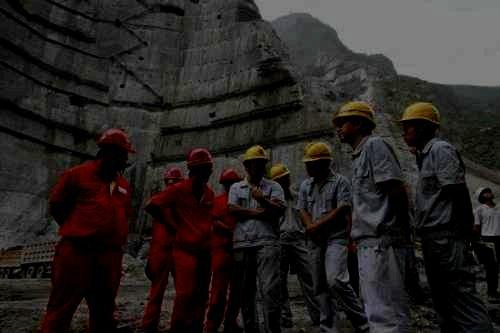helmet: (396, 102, 440, 146), (330, 101, 377, 142), (96, 128, 135, 171), (300, 142, 333, 177), (186, 148, 213, 183), (242, 145, 269, 178), (269, 163, 292, 188), (219, 168, 244, 190), (162, 167, 185, 189), (475, 186, 494, 204)
